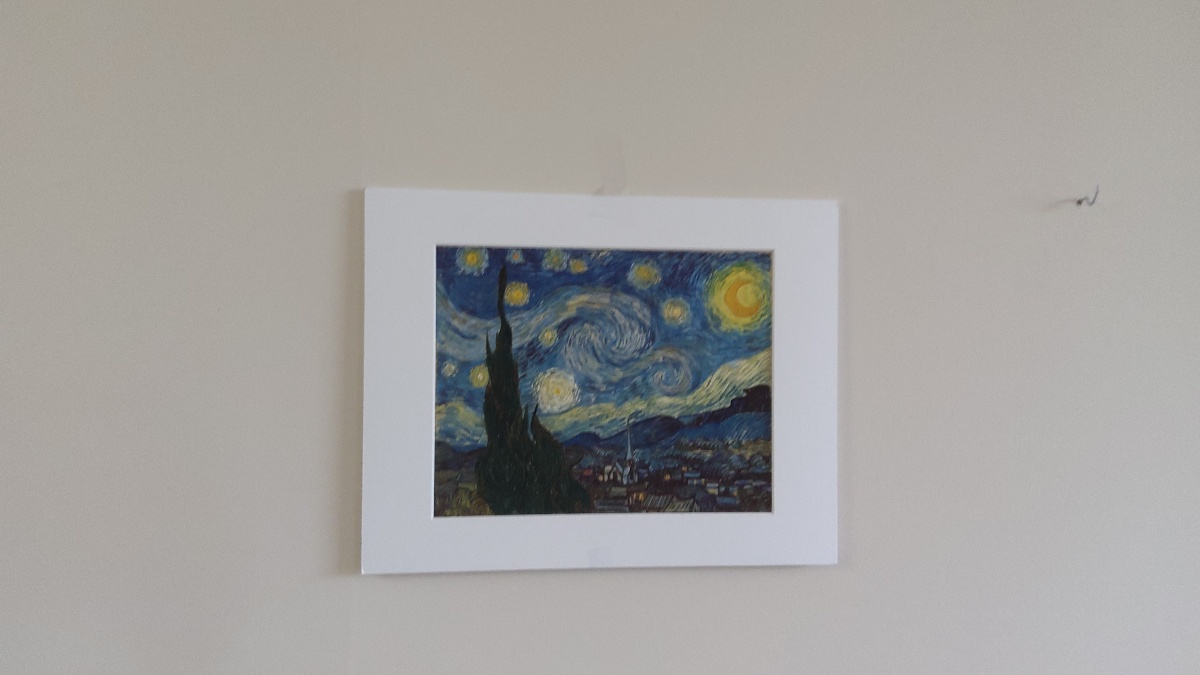painting: (418, 228, 784, 529)
